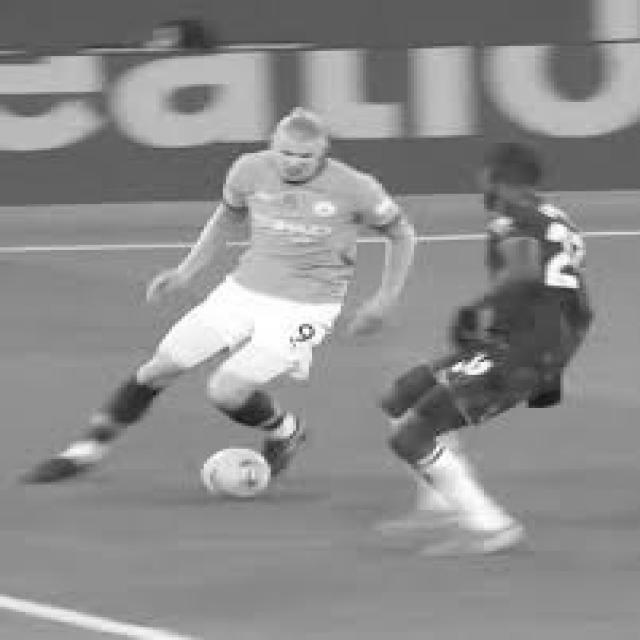football: (192, 442, 284, 510)
